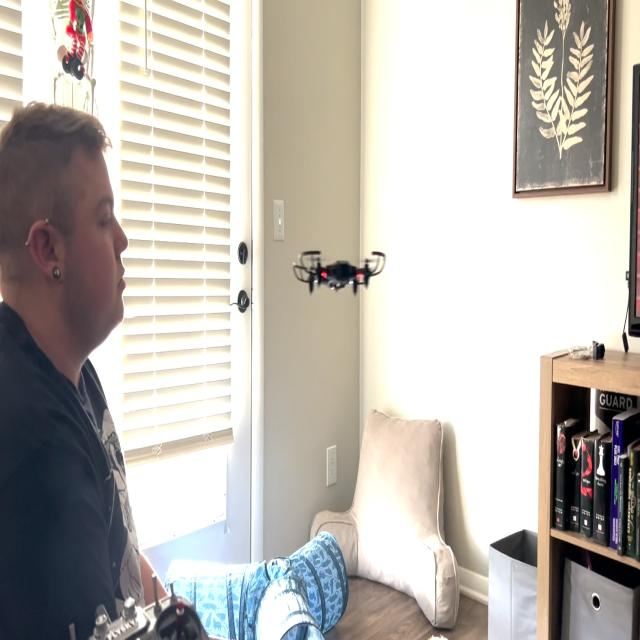drone: (287, 230, 394, 306)
